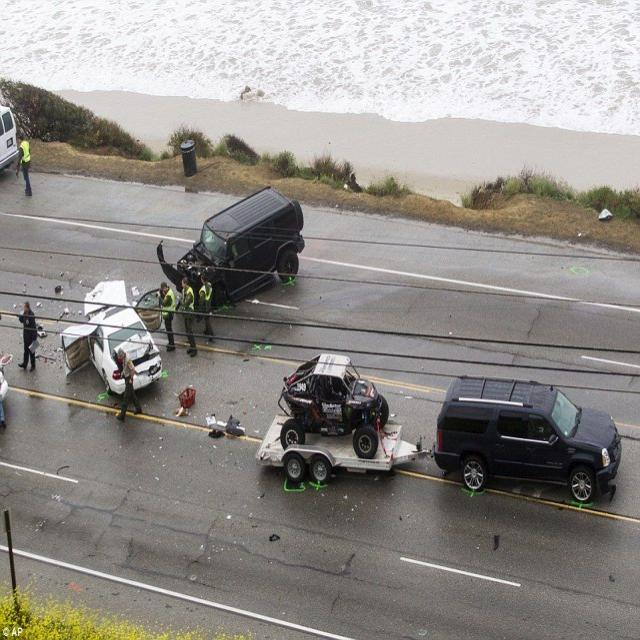traffic_incident: (60, 264, 164, 410)
